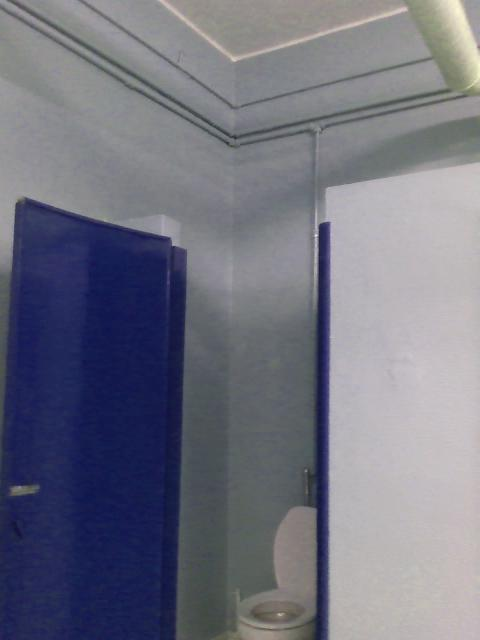open_door: (165, 183, 330, 638)
